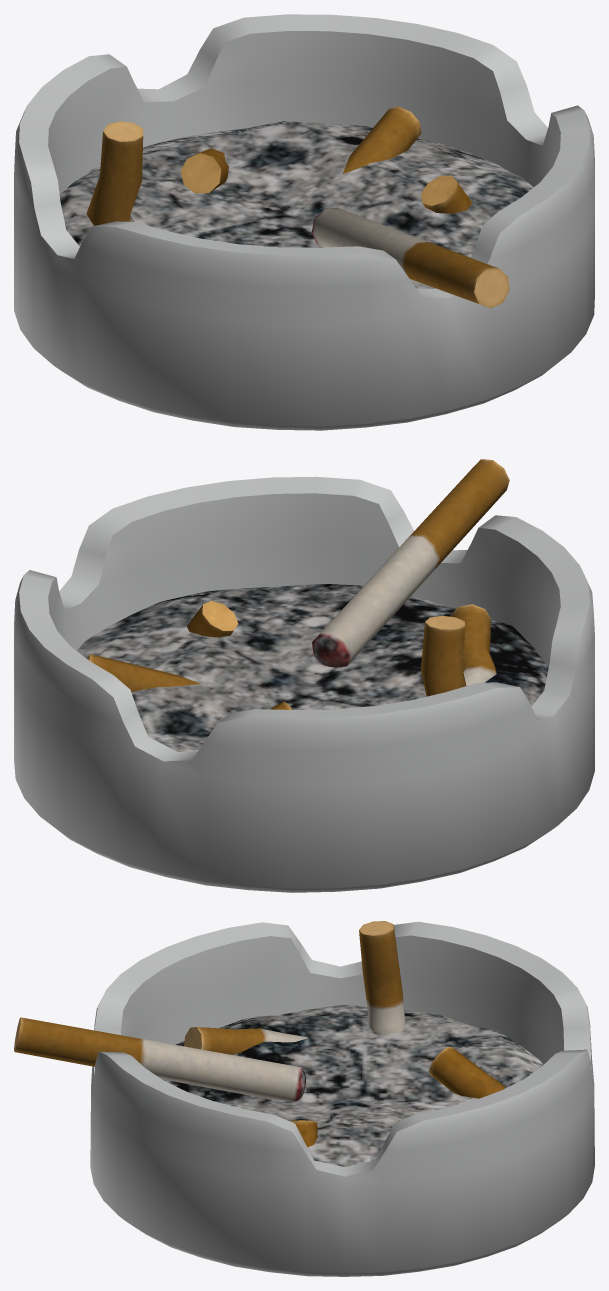
File: Prop_Ashtray_x2.fbx
The picture shows the model from 3 angles, top to bottom: view 1: azimuth 30°, elevation 25°; view 2: azimuth 150°, elevation 25°; view 3: azimuth 270°, elevation 25°; orthographic projection. The views are drawn at different scales.
Parts seen in each view (by area): view 1: Prop_Ashtray_x2; view 2: Prop_Ashtray_x2; view 3: Prop_Ashtray_x2.
Part boxes in pixels (box(x1,y1,x2,y2)): Prop_Ashtray_x2: box(14, 14, 594, 430); Prop_Ashtray_x2: box(14, 459, 594, 892); Prop_Ashtray_x2: box(14, 921, 594, 1276).
Bounding box in the file's own units: 5.55 × 2.18 × 6.39.
